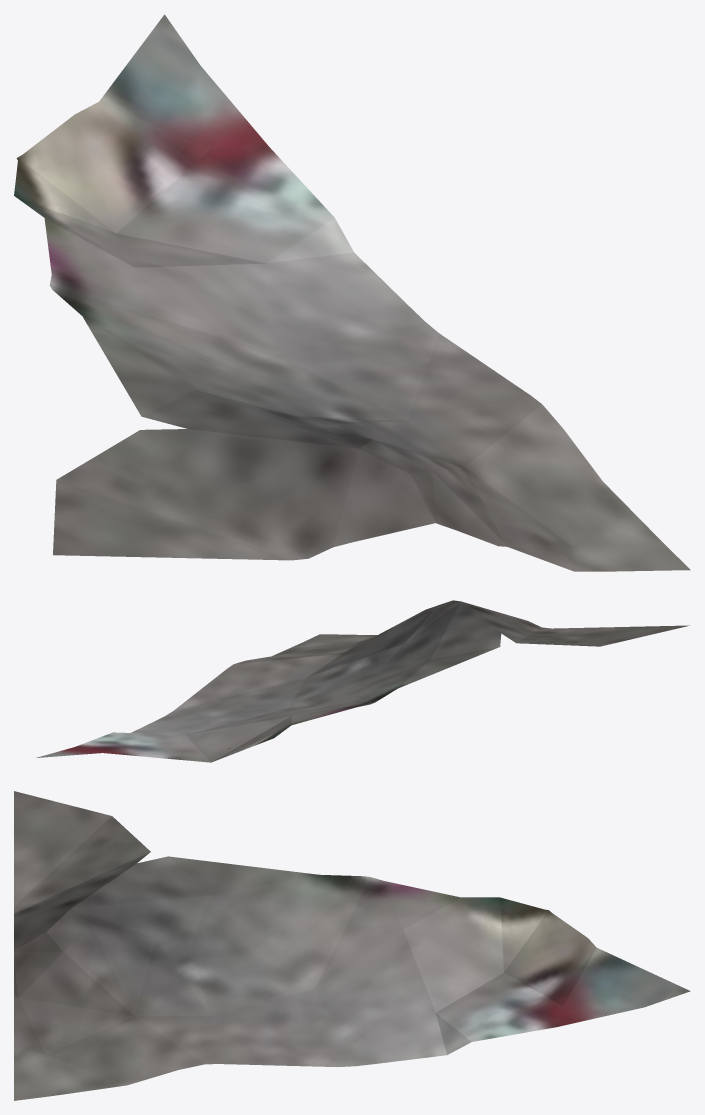
3 views of the same model, one above another, from view 1: azimuth 30°, elevation 25°; view 2: azimuth 150°, elevation 25°; view 3: azimuth 270°, elevation 25° (orthographic). The views are drawn at different scales.
Size of the model in its own units: 0.5491 by 0.1403 by 0.7845.
1 material, 1 textured.
